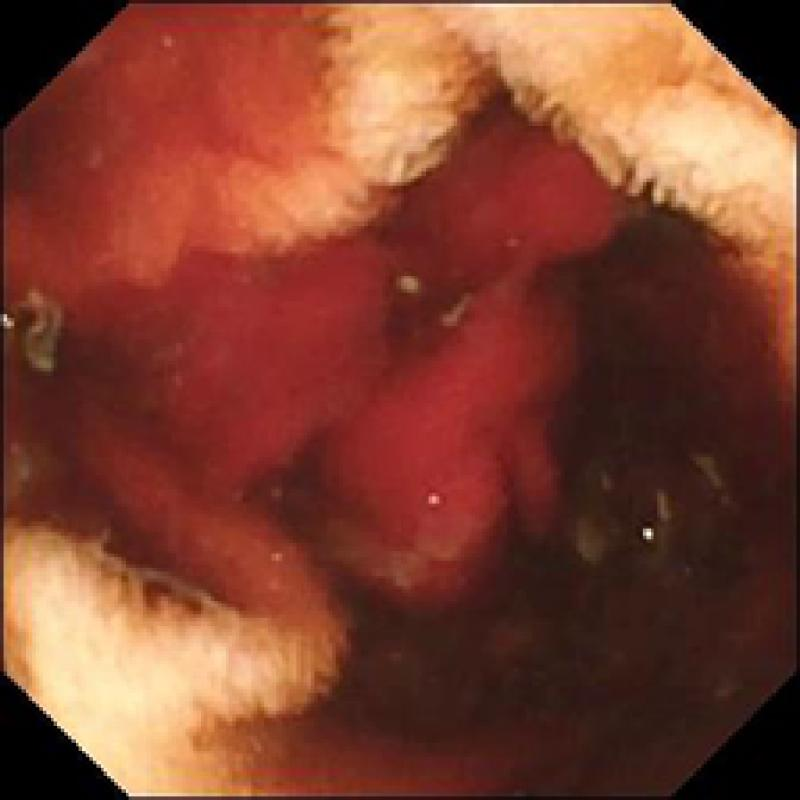bleeding: (0, 4, 629, 600)
